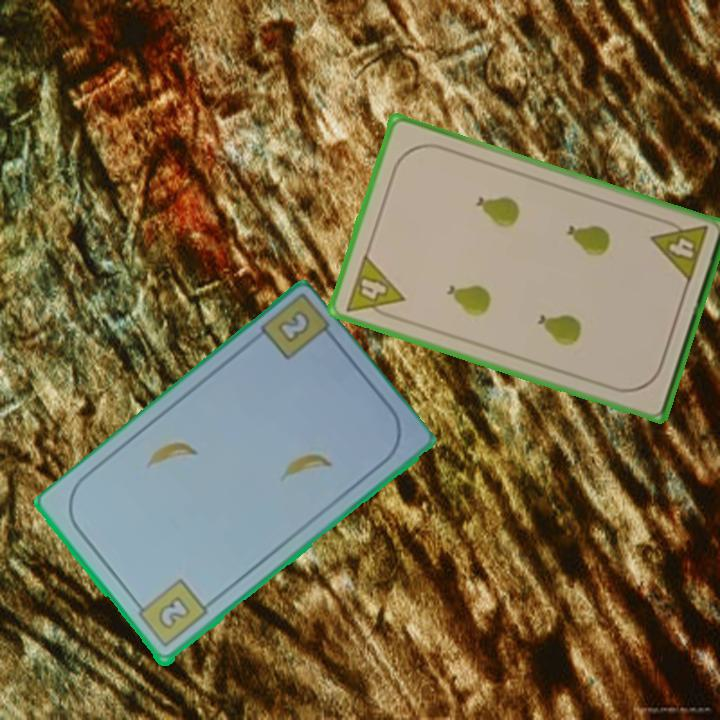2b: (131, 576, 211, 652), (273, 307, 314, 347)
4p: (341, 251, 407, 324), (647, 214, 711, 286)
